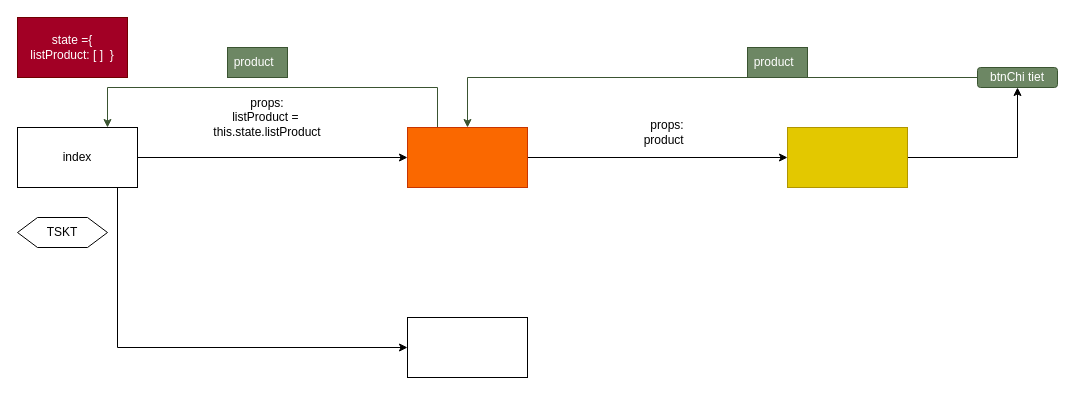
This 1075x395 diagram has some shape labels left out. The centre of each missing label's shape, as x and y in pixels:
"dssp" goes at point (467, 157).
"modal" goes at point (467, 347).
"sp (3)" goes at point (847, 157).
